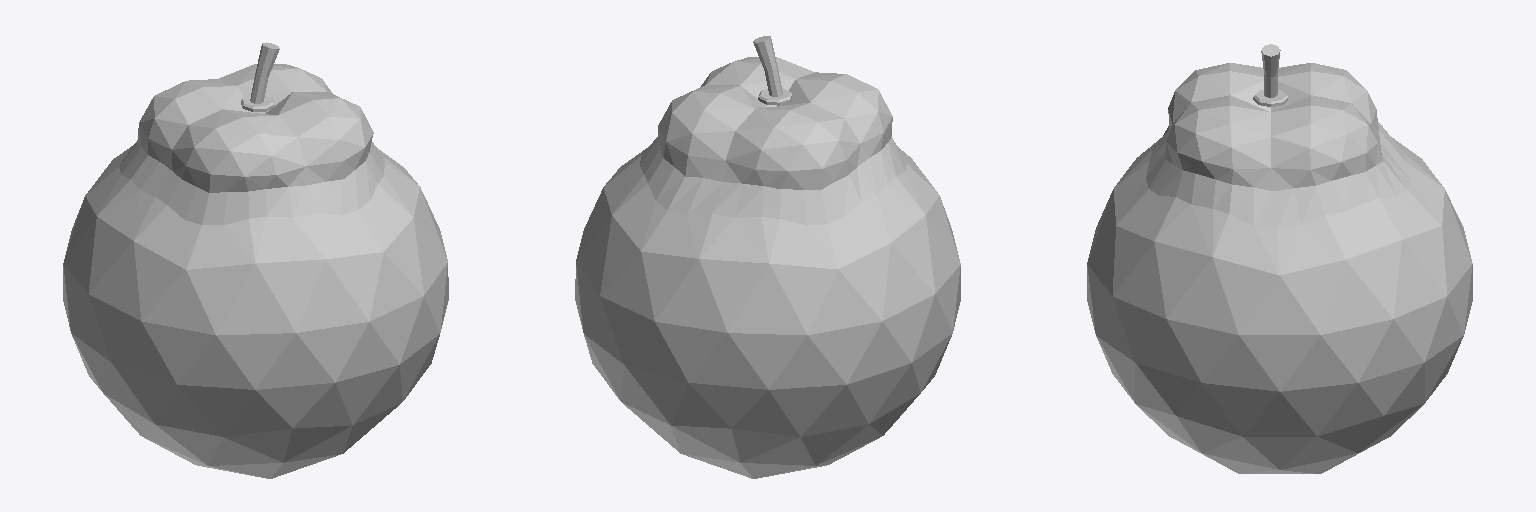
File: SitrusBerry.obj
3 views of the same model, side by side, from view 1: azimuth 30°, elevation 25°; view 2: azimuth 150°, elevation 25°; view 3: azimuth 270°, elevation 25° (orthographic).
Parts seen in each view (by area): view 1: Cylinder01, Bark; view 2: Cylinder01, Bark; view 3: Cylinder01, Bark.
Part boxes in pixels (left/top/right/bottom): Cylinder01: left=63, top=64, right=448, bottom=478; Bark: left=241, top=42, right=279, bottom=111; Cylinder01: left=575, top=57, right=960, bottom=478; Bark: left=753, top=36, right=791, bottom=105; Cylinder01: left=1087, top=63, right=1472, bottom=473; Bark: left=1253, top=44, right=1287, bottom=106.
Size of the model in its own units: 87.11 by 106 by 87.01.